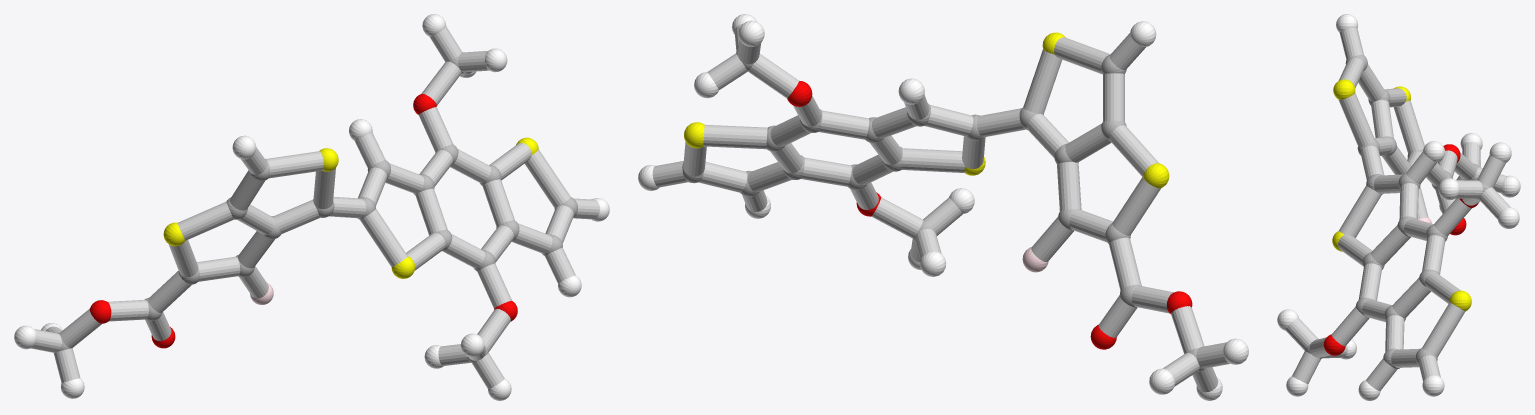
Rendered from color.glb.
The picture shows the model from 3 angles, left to right: view 1: azimuth 30°, elevation 25°; view 2: azimuth 150°, elevation 25°; view 3: azimuth 270°, elevation 25°; orthographic projection. The views are drawn at different scales.
Visible parts, largest first — view 1: grp15205, grp8689, grp1, grp7241, grp13395; view 2: grp15205, grp8689, grp1, grp7241, grp13395; view 3: grp15205, grp8689, grp1, grp7241, grp13395.
Boxes of the visible parts, x1,y1,x2,y2 form: grp15205: [31, 26, 599, 388]; grp8689: [14, 14, 609, 400]; grp1: [57, 52, 577, 362]; grp7241: [163, 137, 538, 278]; grp13395: [89, 93, 517, 348]; grp15205: [652, 24, 1230, 392]; grp8689: [638, 14, 1248, 400]; grp1: [682, 50, 1205, 371]; grp7241: [684, 32, 1169, 188]; grp13395: [787, 81, 1192, 349]; grp15205: [1285, 28, 1510, 390]; grp8689: [1277, 14, 1520, 400]; grp1: [1305, 55, 1490, 369]; grp7241: [1332, 79, 1471, 311]; grp13395: [1323, 144, 1478, 355].
Bounding box in the file's own units: 16.6 × 8.3 × 6.6.
